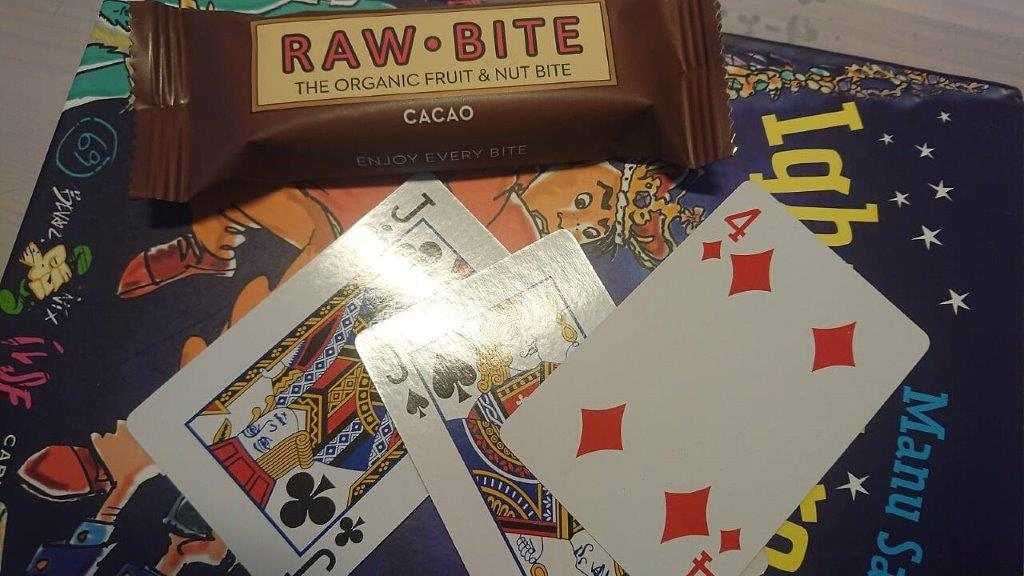4D: (695, 204, 765, 265)
JC: (358, 188, 435, 260)
JS: (374, 337, 434, 424)
